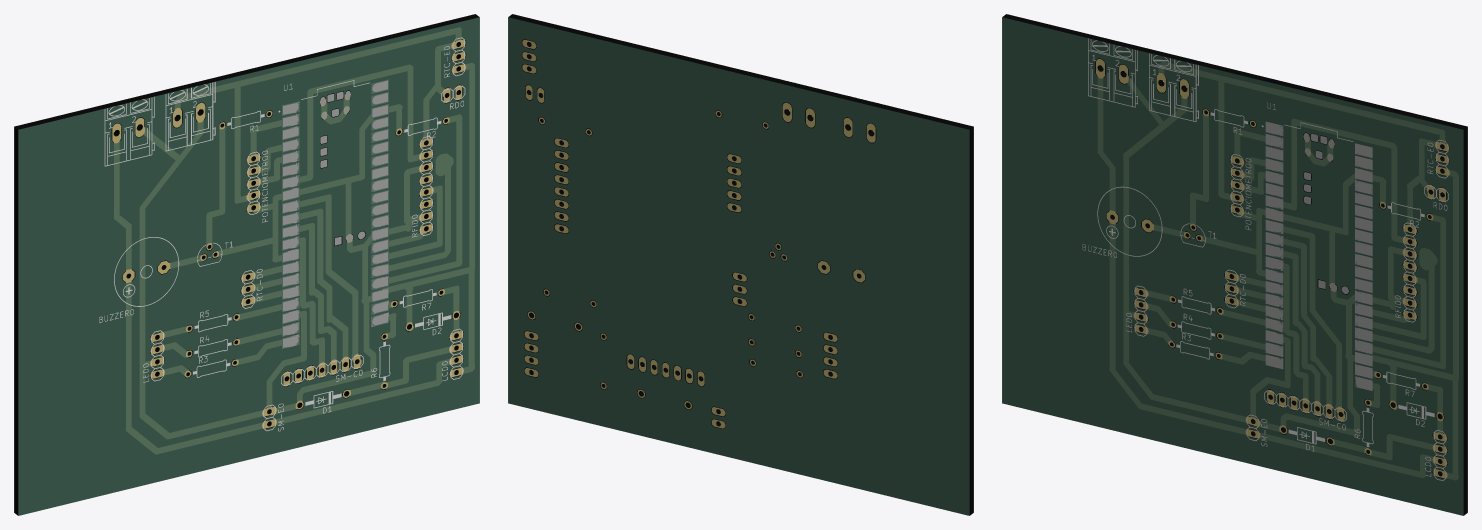
File: carebox.glb
3 views of the same model, side by side, from view 1: azimuth 30°, elevation 25°; view 2: azimuth 150°, elevation 25°; view 3: azimuth 330°, elevation 25° (orthographic).
Visible parts, largest first — view 1: Shape (×6); view 2: Shape (×4); view 3: Shape (×6).
Part boxes in pixels (box(x1,y1,x2,y2)): Shape (×6): box(14, 14, 479, 515); Shape (×4): box(508, 14, 973, 515); Shape (×6): box(1002, 14, 1467, 515).
Bounding box in the file's own units: 0.1 × 0.08 × 0.00169.
